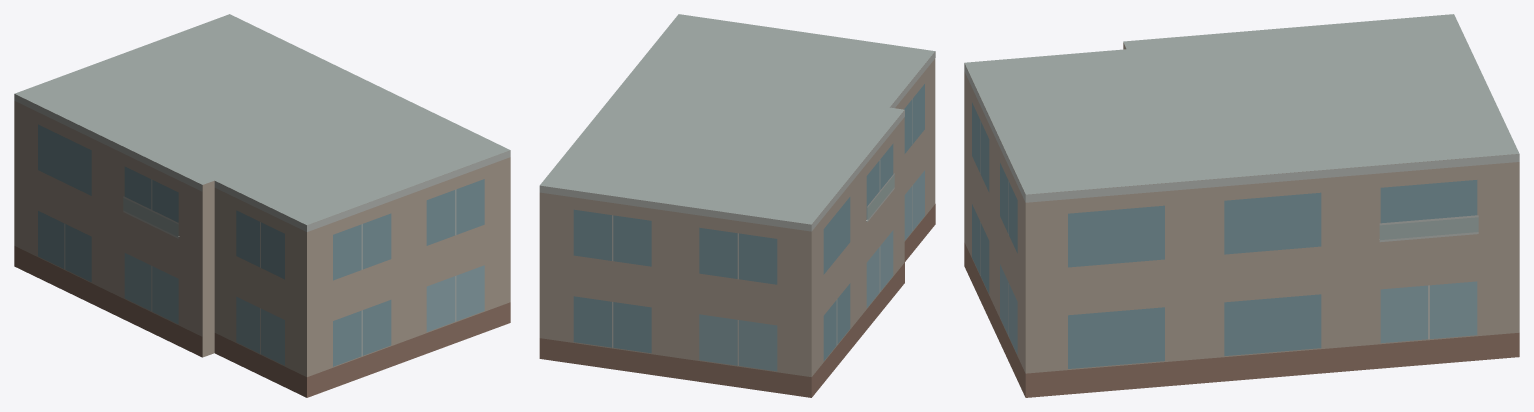
Rendered from survey-upis-32708430.glb.
3 renders of one model, left to right at view 1: azimuth 30°, elevation 25°; view 2: azimuth 150°, elevation 25°; view 3: azimuth 270°, elevation 25°, orthographic. The views are drawn at different scales.
Parts seen in each view (by area): view 1: survey-upis-32708430.tmp; view 2: survey-upis-32708430.tmp; view 3: survey-upis-32708430.tmp.
Part boxes in pixels (x1,y1,x2,y2): survey-upis-32708430.tmp: (14, 14, 510, 397); survey-upis-32708430.tmp: (539, 14, 935, 397); survey-upis-32708430.tmp: (964, 14, 1519, 397).
Bounding box in the file's own units: 11.64 × 6.1 × 15.12.
